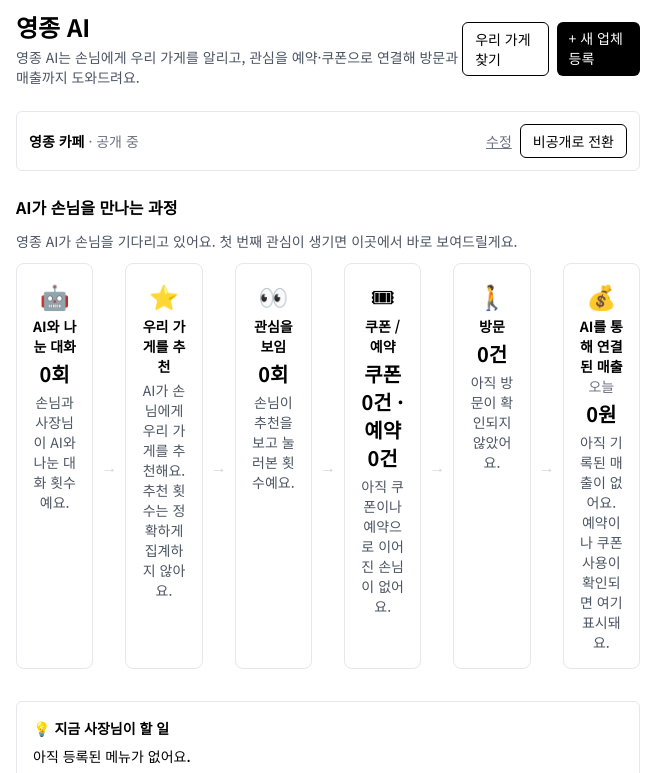
Test: DashboardPage (smoke) › '수정'을 누르면 이름/주소/업종을 고쳐서 저장할 수 있다
The width and height of the screenshot is (657, 773).
Check: the text "영종 카페" is shown, box [29,131,84,151]
Click the button "수정": [499, 141] box [486,131,512,151]
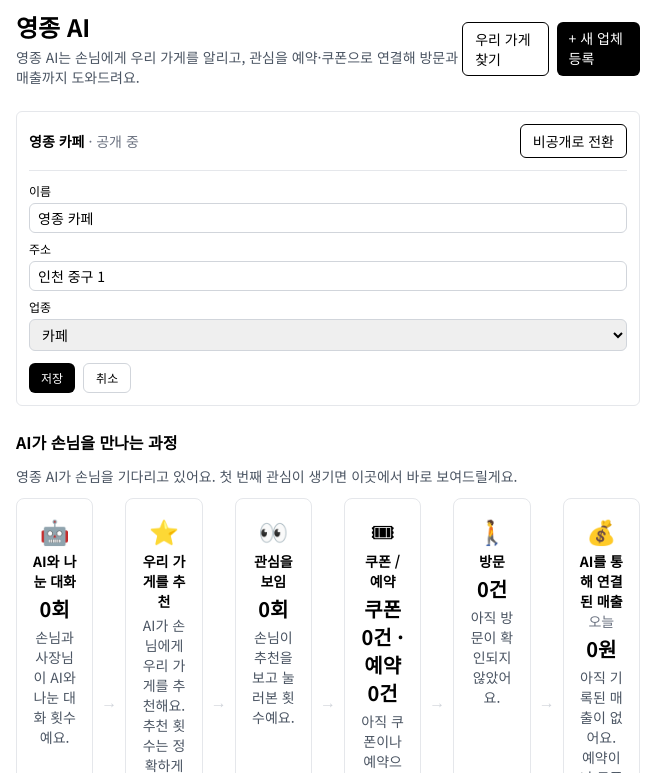
Replace the text in the field labelled "이름" with "긴마루염소탕": [328, 218] box [29,203,627,233]
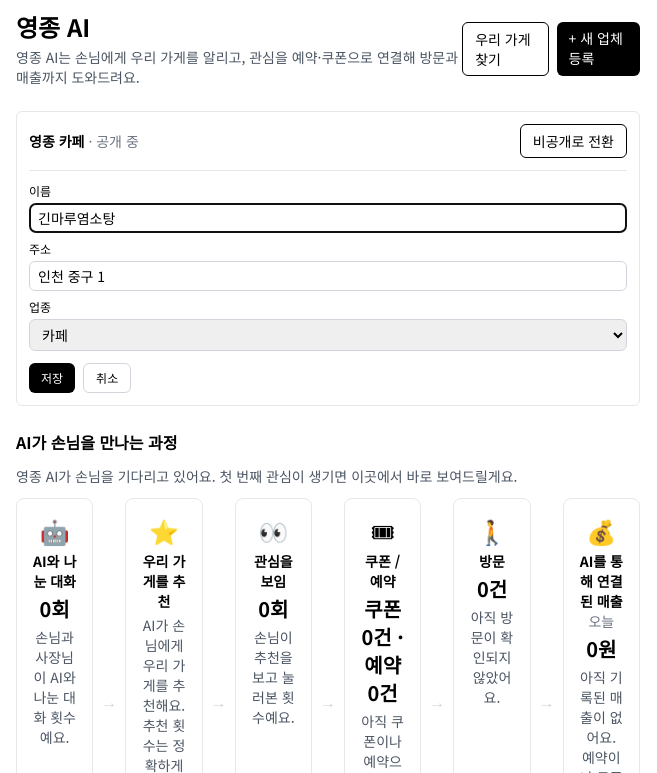
Replace the text in the field labelled "주소" with "인천 영종구 운중로71번길 12": [328, 276] box [29,261,627,291]
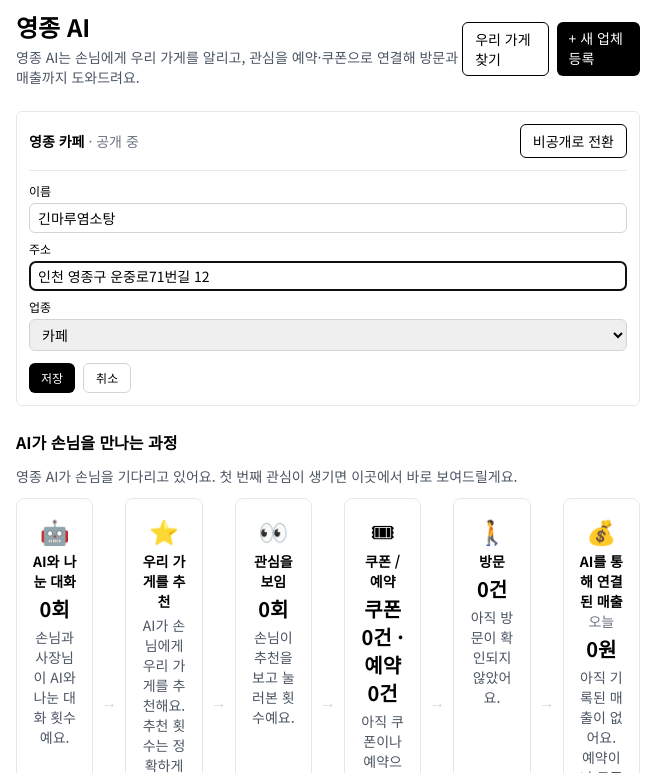
Click the button "저장": [52, 378] box [29,363,75,393]
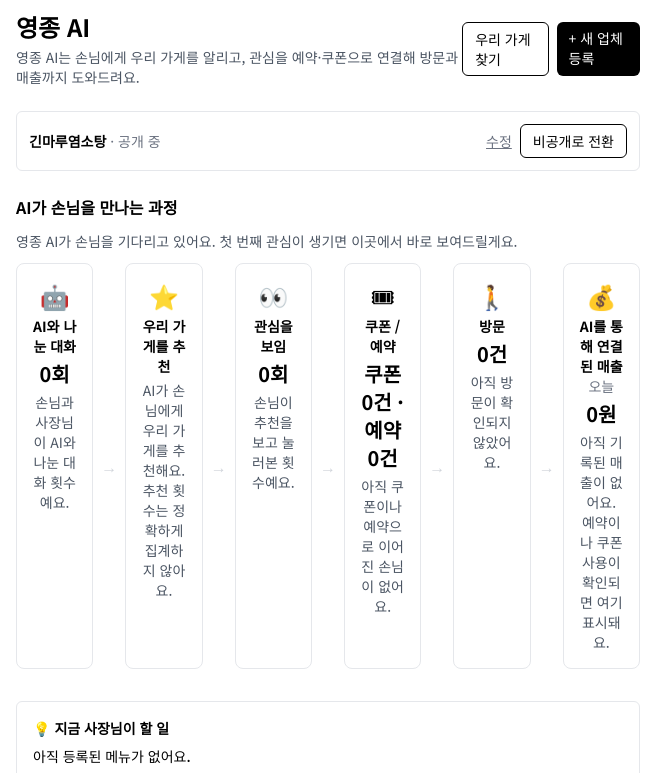
Check: the text "긴마루염소탕" is shown, box [29,131,106,151]
Check: the label labelled "이름" is gone
